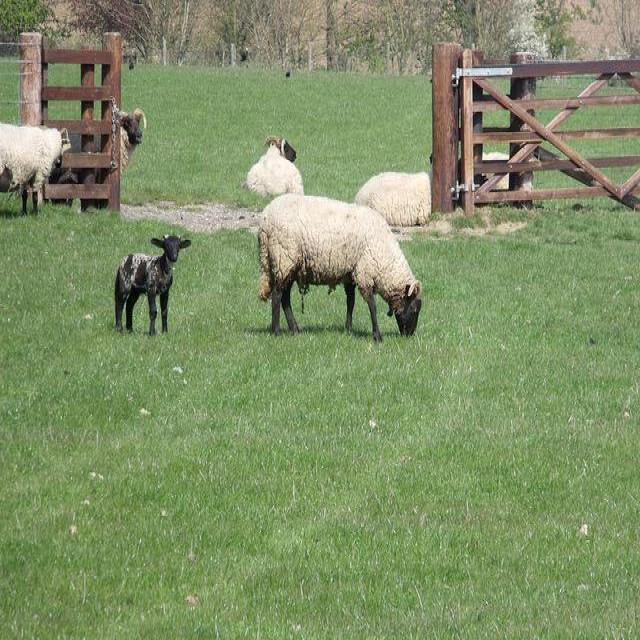Sheep: (259, 196, 424, 341), (48, 108, 146, 207), (113, 233, 193, 336), (0, 121, 71, 216), (354, 171, 433, 225), (247, 136, 304, 196)
